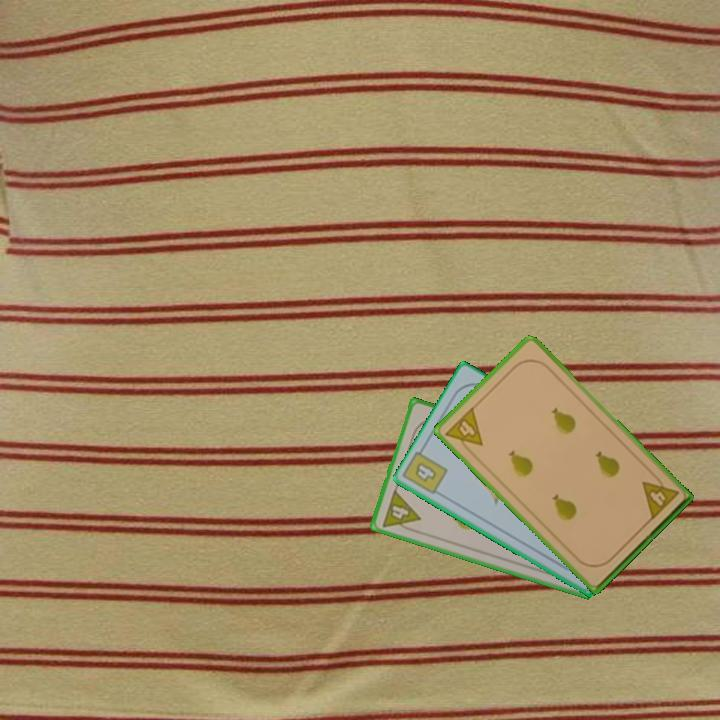4b: (411, 459, 439, 485)
4p: (441, 403, 486, 458), (638, 469, 682, 523), (378, 486, 423, 536)
